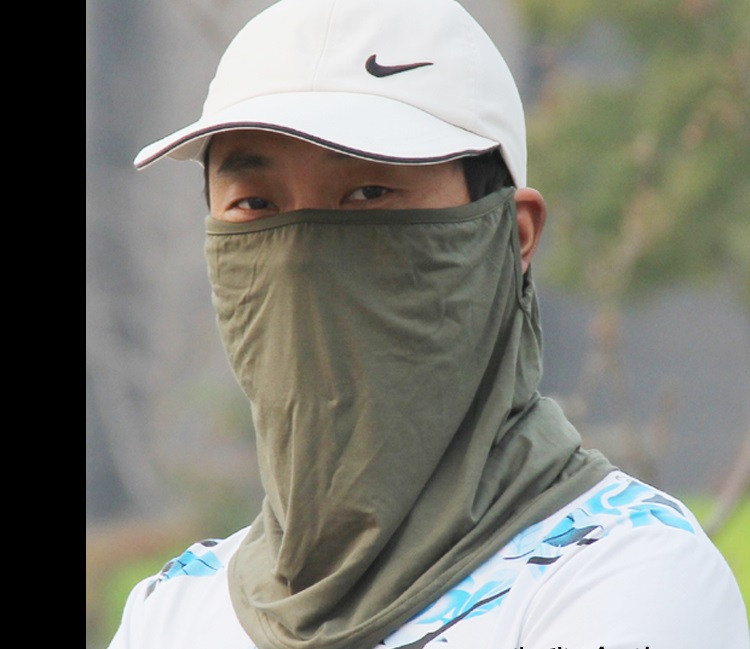face_mask: (201, 86, 480, 395)
